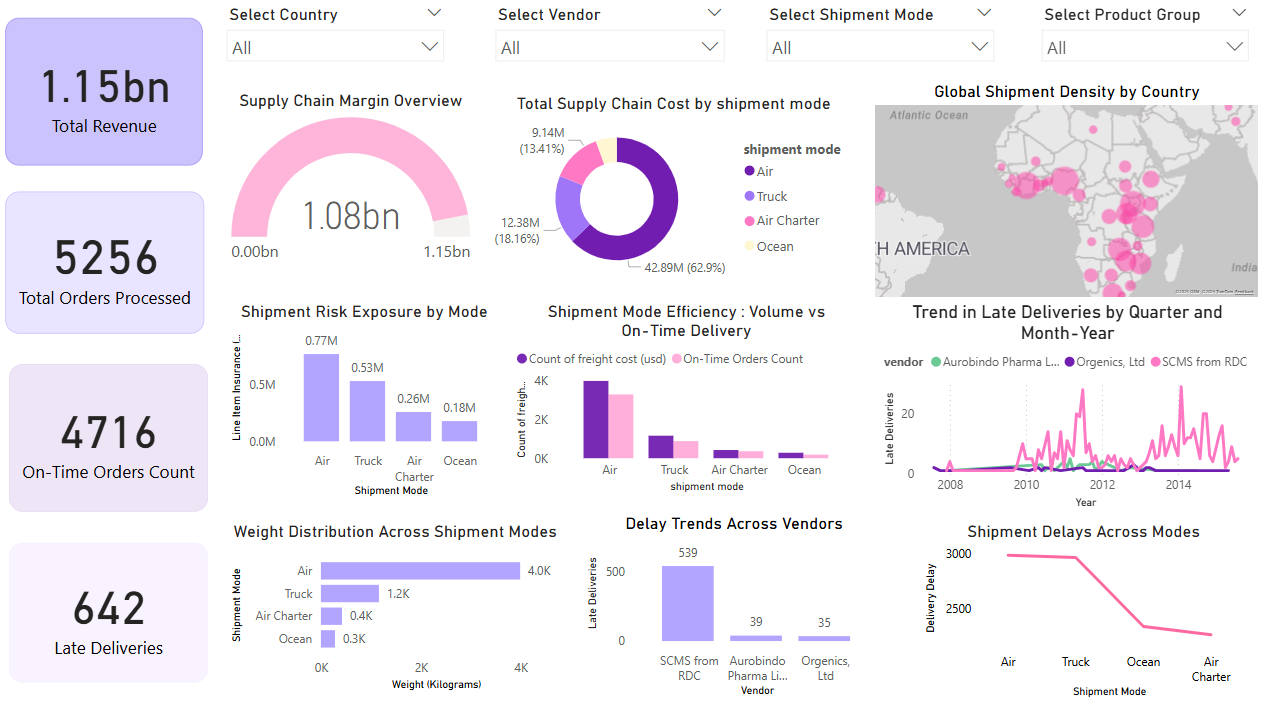

What the dashboard file says about the page in this screenshot:
{"tool":"powerbi","page":{"name":"Page 1","canvas":[1280,720],"ordinal":0},"visuals":[{"type":"azureMap","title":"Global Shipment Density by Country","fields":{"Category":["ShippmentData.country"],"Size":["ShippmentData.ShipmentsbyCountry"]},"box":[881.8,83.1,398.7,223.4],"z":0},{"type":"lineChart","title":"Shipment Delays Across Modes","fields":{"Y":["ShippmentData.Delivery Delay (Days)"],"Category":["ShippmentData.shipment mode"]},"box":[932.5,528.6,331.2,183.1],"z":1000},{"type":"card","fields":{"Values":["ShippmentData.Late Deliveries"]},"box":[10.4,550.6,201.3,141.6],"z":2000},{"type":"barChart","title":"Weight Distribution Across Shipment Modes","fields":{"Category":["ShippmentData.shipment mode"],"Y":["CountNonNull(ShippmentData.weight (kilograms))"]},"box":[229.9,528.6,341.6,176.6],"z":3000},{"type":"card","fields":{"Values":["ShippmentData.Total Orders Processed"]},"box":[6.5,194.8,201.3,144.2],"z":4000},{"type":"card","fields":{"Values":["ShippmentData.Total Revenue"]},"box":[6.5,19.5,200,149.4],"z":5000},{"type":"card","fields":{"Values":["ShippmentData.On-Time Orders Count"]},"box":[10.4,370.1,201.3,149.4],"z":6000},{"type":"slicer","fields":{"Values":["ShippmentData.country"]},"box":[220.1,0,240.4,75.3],"z":7000},{"type":"slicer","fields":{"Values":["ShippmentData.vendor"]},"box":[492.4,0,252,75.3],"z":8000},{"type":"slicer","fields":{"Values":["ShippmentData.shipment mode"]},"box":[767.6,0,250.6,75.3],"z":9000},{"type":"columnChart","title":"Shipment Risk Exposure by Mode ","fields":{"Category":["ShippmentData.shipment mode"],"Y":["Sum(ShippmentData.line item insurance (usd))"]},"box":[229.9,306.5,279.2,202.6],"z":10000},{"type":"slicer","fields":{"Values":["ShippmentData.product group"]},"box":[1045.7,0,230.3,75.3],"z":11000},{"type":"clusteredColumnChart","title":"Delay Trends Across Vendors","fields":{"Category":["ShippmentData.vendor"],"Y":["ShippmentData.Late Deliveries"]},"box":[590.9,520.8,306.5,190.9],"z":12000},{"type":"clusteredColumnChart","title":"Shipment Mode Efficiency : Volume vs On-Time Delivery","fields":{"Category":["ShippmentData.shipment mode"],"Y":["CountNonNull(ShippmentData.freight cost (usd))","ShippmentData.On-Time Orders Count"]},"box":[519.5,306.5,354.5,198.7],"z":13000},{"type":"lineChart","title":"Trend in Late Deliveries by Quarter and Month-Year","fields":{"Y":["ShippmentData.Late Deliveries"],"Series":["ShippmentData.vendor"],"Category":["ShippmentData.delivered to client date.Variation.Date Hierarchy.Year","ShippmentData.delivered to client date.Variation.Date Hierarchy.Quarter","ShippmentData.delivered to client date.Variation.Date Hierarchy.Month"]},"box":[890.9,306.5,381.8,214.3],"z":14000},{"type":"donutChart","fields":{"Y":["ShippmentData.Total Supply Chain Cost"],"Category":["ShippmentData.shipment mode"]},"box":[492.2,94.8,381.8,196.1],"z":15000},{"type":"gauge","title":"Supply Chain Margin Overview","fields":{"Y":["ShippmentData.Supply Chain Margin"],"MaxValue":["ShippmentData.Total Revenue"]},"box":[229.9,92.2,251.9,188.3],"z":16000}]}

Visuals, with their boxes in screenshot pixels (x1, y1, x2, y2), scaled from the page's 1280x720 canvas onto the 1262x706 screenshot:
"Global Shipment Density by Country" azureMap: detection(869, 81, 1261, 301)
"Shipment Delays Across Modes" lineChart: detection(919, 518, 1246, 698)
card - ShippmentData.Late Deliveries: detection(10, 540, 209, 679)
"Weight Distribution Across Shipment Modes" barChart: detection(227, 518, 563, 691)
card - ShippmentData.Total Orders Processed: detection(6, 191, 205, 332)
card - ShippmentData.Total Revenue: detection(6, 19, 204, 166)
card - ShippmentData.On-Time Orders Count: detection(10, 363, 209, 509)
slicer - ShippmentData.country: detection(217, 0, 454, 74)
slicer - ShippmentData.vendor: detection(485, 0, 734, 74)
slicer - ShippmentData.shipment mode: detection(757, 0, 1004, 74)
"Shipment Risk Exposure by Mode " columnChart: detection(227, 301, 502, 499)
slicer - ShippmentData.product group: detection(1031, 0, 1258, 74)
"Delay Trends Across Vendors" clusteredColumnChart: detection(583, 511, 885, 698)
"Shipment Mode Efficiency : Volume vs On-Time Delivery" clusteredColumnChart: detection(512, 301, 862, 495)
"Trend in Late Deliveries by Quarter and Month-Year" lineChart: detection(878, 301, 1255, 511)
donutChart - ShippmentData.Total Supply Chain Cost x ShippmentData.shipment mode: detection(485, 93, 862, 285)
"Supply Chain Margin Overview" gauge: detection(227, 90, 475, 275)
